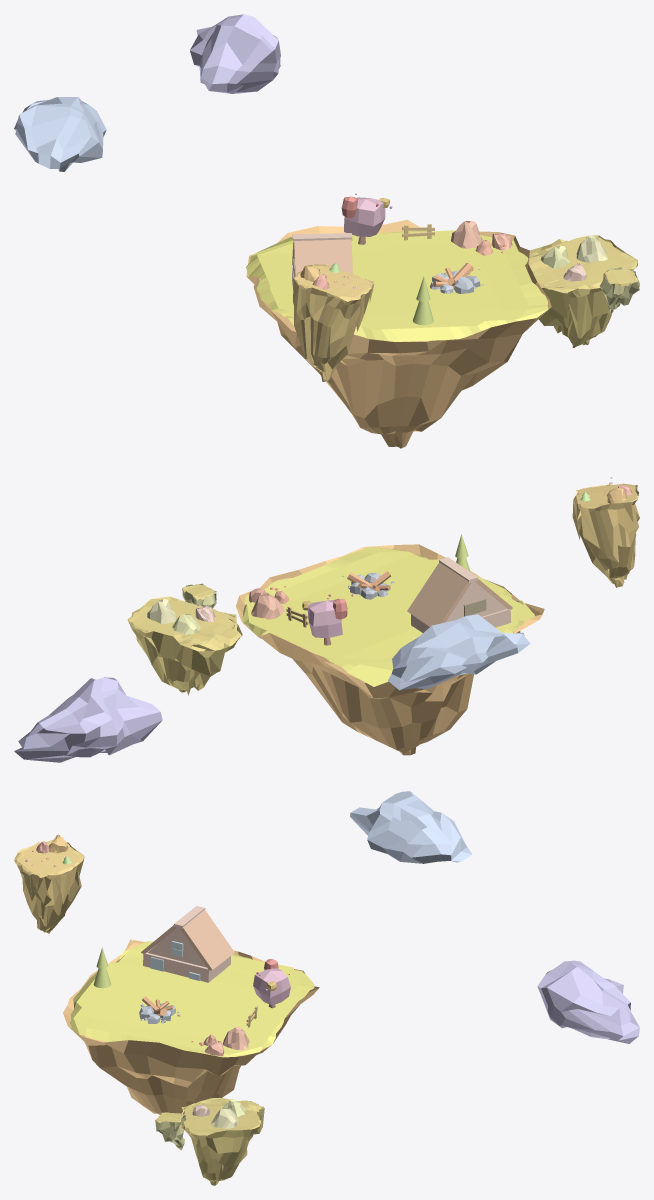
Rendered from allModels.gltf.
3 views of the same model, one above another, from view 1: azimuth 30°, elevation 25°; view 2: azimuth 150°, elevation 25°; view 3: azimuth 270°, elevation 25° (orthographic). The views are drawn at different scales.
Visible parts, largest first — view 1: MiddleRock, Plane.003, Plane.002, Cube, Cube.001, House, Cube.003, Fireplace, Plane, Plane.010, Cube.002; view 2: MiddleRock, Cube, Plane.003, Cube.001, Plane.002, House, Cube.003, Fireplace, Plane, Plane.010, Plane.011; view 3: MiddleRock, Cube.001, Cube, Plane.003, House, Plane.002, Cube.003, Fireplace.
Part boxes in pixels (left/top/right/bottom): MiddleRock: left=246, top=219, right=551, bottom=448; Plane.003: left=528, top=235, right=639, bottom=347; Plane.002: left=293, top=264, right=374, bottom=381; Cube: left=190, top=14, right=280, bottom=93; Cube.001: left=14, top=97, right=106, bottom=171; House: left=292, top=233, right=352, bottom=289; Cube.003: left=341, top=193, right=392, bottom=244; Fireplace: left=429, top=262, right=480, bottom=293; Plane: left=451, top=221, right=482, bottom=248; Plane.010: left=576, top=235, right=607, bottom=262; Cube.002: left=412, top=276, right=433, bottom=325; MiddleRock: left=236, top=544, right=544, bottom=755; Cube: left=14, top=677, right=162, bottom=762; Plane.003: left=127, top=583, right=242, bottom=695; Cube.001: left=388, top=614, right=530, bottom=690; Plane.002: left=572, top=483, right=639, bottom=587; House: left=407, top=557, right=512, bottom=632; Cube.003: left=302, top=594, right=347, bottom=645; Fireplace: left=347, top=571, right=390, bottom=599; Plane: left=251, top=594, right=284, bottom=619; Plane.010: left=147, top=599, right=176, bottom=623; Plane.011: left=172, top=614, right=200, bottom=634; MiddleRock: left=63, top=939, right=319, bottom=1114; Cube.001: left=350, top=791, right=472, bottom=863; Cube: left=537, top=960, right=639, bottom=1043; Plane.003: left=155, top=1097, right=264, bottom=1185; House: left=141, top=906, right=234, bottom=982; Plane.002: left=14, top=840, right=84, bottom=933; Cube.003: left=253, top=959, right=290, bottom=1008; Fireplace: left=139, top=996, right=175, bottom=1023.
Size of the model in its own units: 1.49 by 0.8212 by 1.93.
